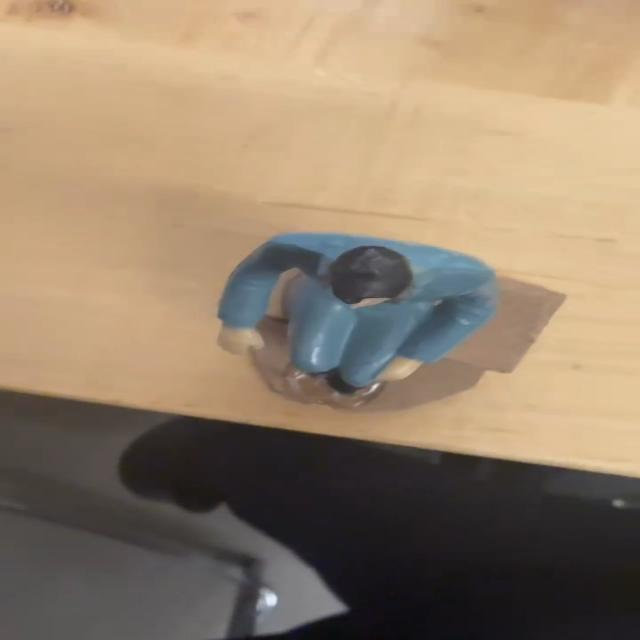Authorized: (193, 220, 495, 435)
